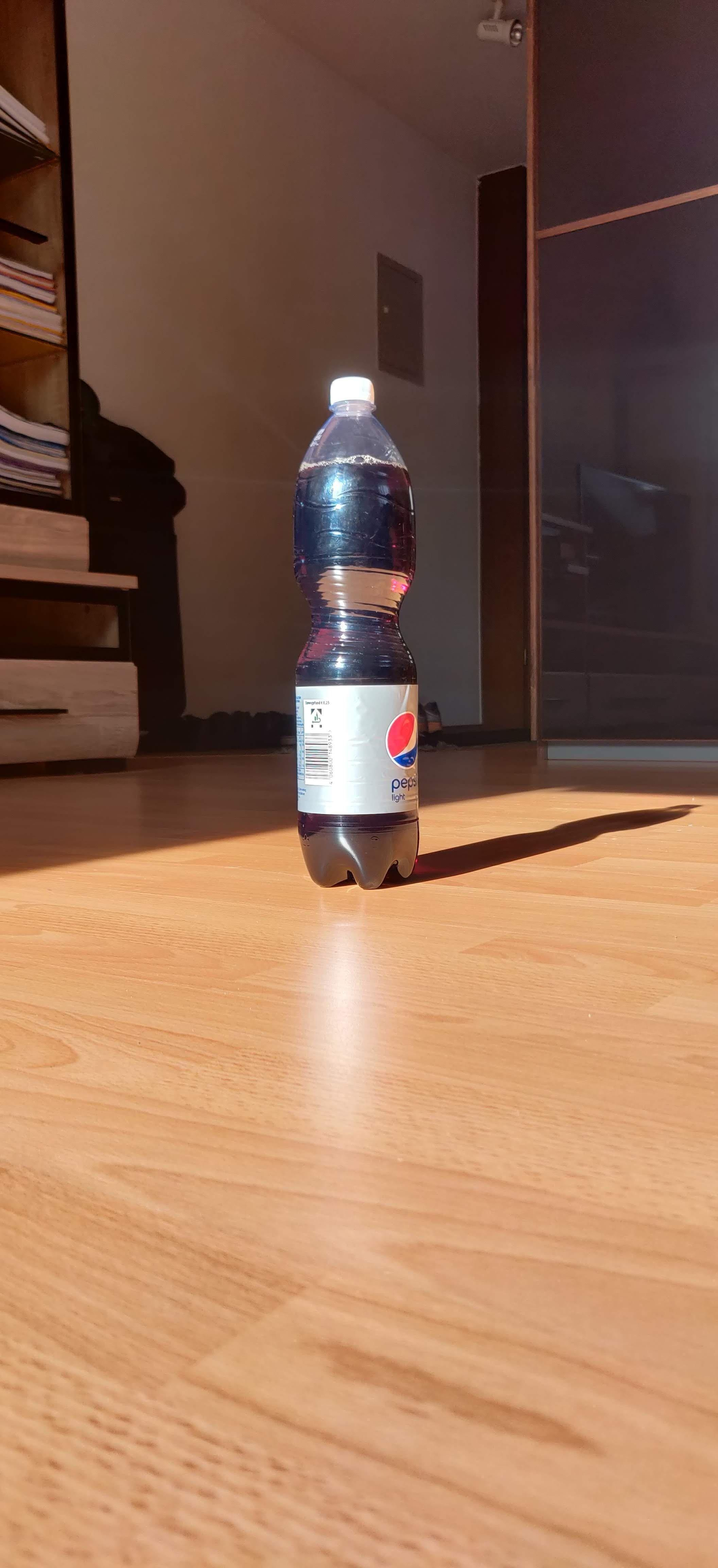bottle-plastic: (287, 373, 423, 891)
